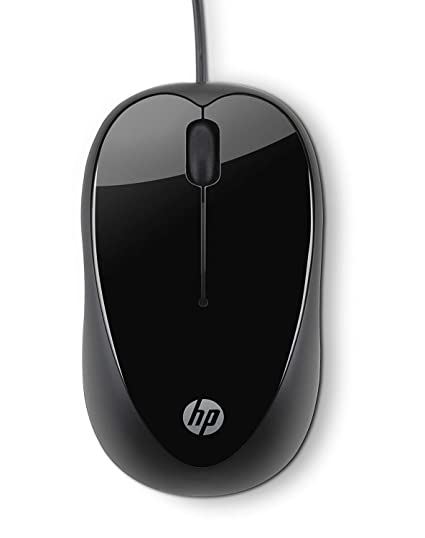hp-mouse-X1000: (54, 21, 350, 506)
